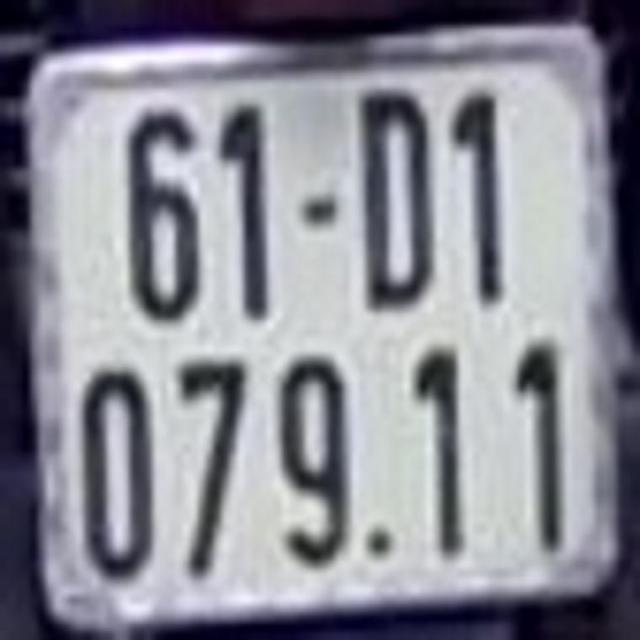0: (84, 363, 154, 575)
1: (415, 340, 473, 552), (508, 352, 568, 554), (218, 113, 274, 314), (456, 96, 508, 294)
6: (121, 108, 203, 314)
7: (174, 358, 244, 572)
9: (278, 354, 350, 572)
D: (355, 82, 433, 308)
